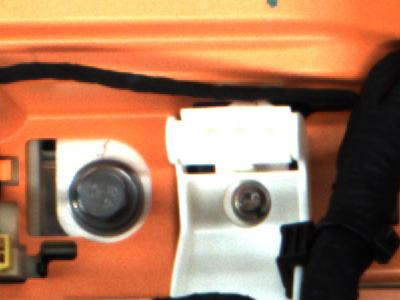nut_b: (69, 155, 153, 239)
